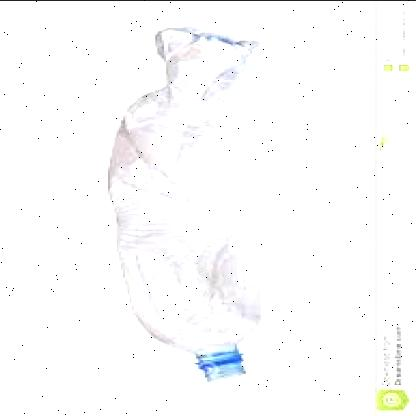Plastic Bottle: (106, 26, 262, 382)
